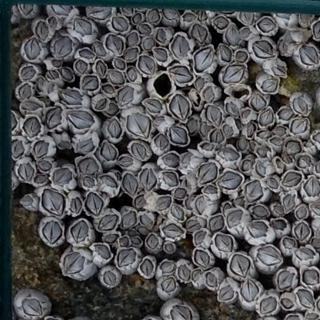Barnacle: (279, 97, 309, 120), (43, 188, 66, 216), (127, 112, 151, 138), (67, 109, 95, 130), (63, 251, 85, 275), (103, 70, 125, 94), (222, 202, 243, 227), (43, 219, 64, 243), (218, 171, 243, 191), (170, 95, 190, 120), (230, 254, 251, 277), (256, 246, 281, 265), (169, 66, 195, 84), (282, 140, 302, 163), (19, 297, 43, 316), (95, 98, 120, 116), (195, 47, 213, 72), (172, 34, 190, 59), (71, 220, 90, 243), (245, 179, 264, 202), (198, 161, 217, 184), (254, 38, 275, 58), (86, 191, 103, 215), (54, 35, 73, 56), (73, 17, 94, 36), (45, 106, 63, 128), (242, 278, 259, 301), (116, 248, 135, 268), (53, 167, 73, 186), (224, 65, 245, 83), (23, 116, 41, 136), (89, 5, 113, 20), (118, 85, 135, 106), (123, 172, 138, 195), (141, 167, 156, 190), (79, 157, 98, 175), (8, 139, 25, 159), (170, 126, 190, 143), (138, 55, 155, 75), (107, 33, 124, 53), (247, 221, 268, 237), (206, 106, 222, 127), (225, 23, 240, 45), (215, 234, 233, 252), (260, 295, 277, 314), (278, 270, 295, 289), (162, 224, 185, 238), (60, 90, 83, 104), (98, 214, 118, 230), (192, 24, 208, 44), (304, 175, 319, 196), (26, 38, 40, 60), (298, 290, 314, 309), (294, 222, 310, 241), (122, 210, 138, 229), (283, 171, 302, 187), (301, 46, 317, 65), (257, 17, 277, 32), (51, 1, 74, 14), (81, 74, 99, 90), (171, 306, 193, 319), (19, 162, 34, 181), (101, 142, 116, 161), (109, 118, 122, 139), (218, 285, 234, 302), (33, 141, 50, 157), (292, 118, 309, 134), (195, 249, 210, 267), (208, 215, 223, 233), (162, 153, 181, 167), (36, 20, 49, 40), (303, 269, 319, 285), (161, 171, 178, 186), (78, 137, 95, 152), (145, 98, 162, 113), (218, 148, 239, 160), (212, 16, 230, 30), (261, 79, 280, 92), (95, 244, 111, 259), (156, 195, 172, 210), (130, 143, 146, 158), (240, 8, 255, 24), (70, 195, 83, 213), (162, 7, 180, 20), (295, 248, 316, 259), (283, 193, 295, 212), (203, 85, 215, 104), (103, 270, 118, 285), (155, 134, 170, 149), (210, 129, 225, 144), (162, 277, 176, 293), (252, 95, 266, 111), (205, 271, 218, 288), (100, 175, 117, 188), (95, 58, 107, 76), (220, 44, 232, 62), (171, 204, 185, 219), (297, 154, 312, 168), (21, 65, 35, 80), (177, 264, 190, 280), (142, 258, 154, 275), (260, 111, 274, 125), (147, 234, 160, 249), (186, 219, 201, 232), (226, 102, 239, 117), (154, 47, 167, 62), (200, 122, 212, 138), (19, 83, 31, 99), (300, 12, 314, 25), (147, 8, 160, 22), (195, 230, 207, 245), (197, 195, 207, 213), (265, 177, 280, 189), (38, 159, 53, 171), (155, 29, 167, 44), (190, 90, 201, 106), (252, 206, 269, 216), (224, 121, 234, 138), (187, 118, 197, 135), (23, 99, 40, 109), (275, 11, 292, 21), (125, 47, 138, 60), (20, 0, 33, 13), (61, 67, 73, 81), (76, 60, 88, 74), (143, 37, 155, 51), (160, 262, 175, 273), (119, 156, 134, 167), (272, 64, 287, 75), (247, 123, 257, 139), (79, 49, 95, 59), (295, 206, 307, 219), (135, 195, 147, 208), (280, 297, 294, 308), (273, 219, 287, 230), (183, 152, 194, 166), (192, 269, 202, 284), (105, 233, 120, 243), (256, 160, 265, 176), (22, 195, 35, 206), (94, 42, 105, 55), (34, 174, 48, 184), (36, 76, 46, 90), (128, 67, 138, 81), (128, 32, 138, 46), (48, 16, 58, 30), (257, 130, 272, 139), (83, 177, 95, 188), (154, 116, 166, 127), (236, 50, 247, 62), (283, 238, 296, 248), (143, 213, 153, 226), (205, 185, 218, 195), (271, 136, 284, 146), (47, 69, 60, 79), (139, 24, 152, 34), (195, 76, 204, 90), (242, 160, 253, 171), (115, 58, 126, 69), (175, 188, 187, 198), (238, 138, 248, 150), (241, 27, 252, 37), (186, 196, 195, 208), (258, 146, 270, 155), (58, 139, 70, 148), (184, 13, 196, 22), (306, 311, 319, 319), (273, 126, 286, 134), (279, 40, 287, 53), (119, 236, 129, 246), (274, 204, 285, 213), (133, 13, 142, 24), (198, 9, 207, 20), (130, 237, 142, 245), (202, 142, 214, 150), (123, 4, 133, 13), (138, 227, 149, 235), (47, 82, 55, 93), (235, 118, 242, 130), (165, 243, 174, 252), (52, 58, 61, 67), (241, 110, 251, 118), (311, 239, 319, 248), (316, 161, 319, 173)
